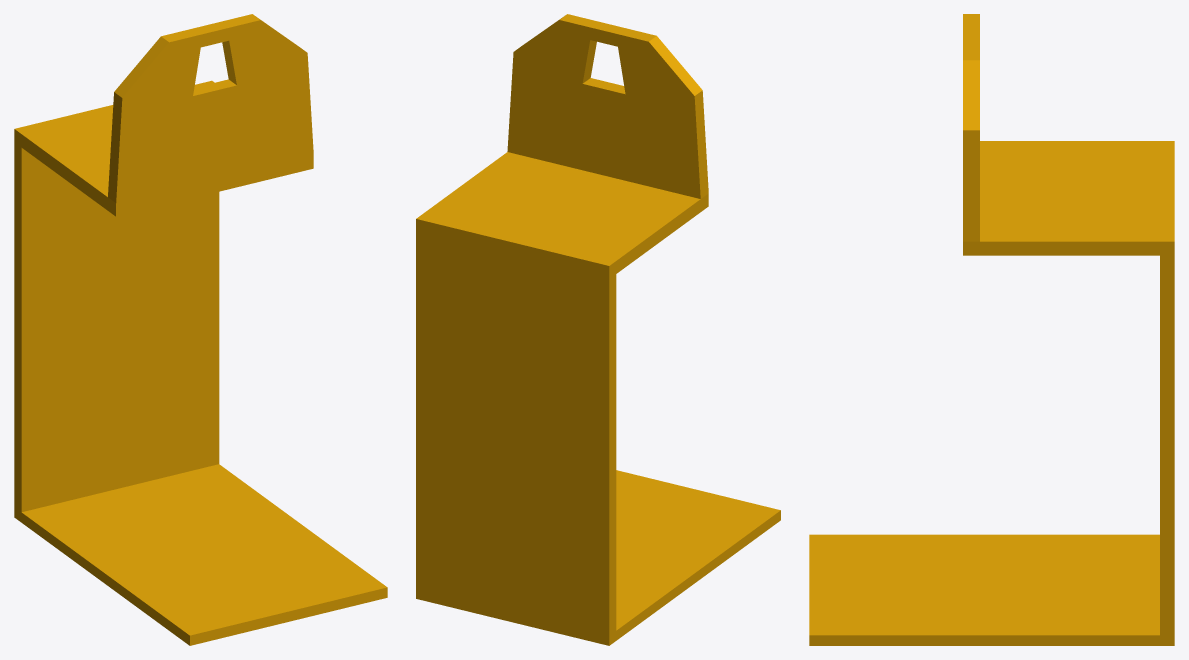
File: Crane_WallHook.fbx
The picture shows the model from 3 angles, left to right: view 1: azimuth 30°, elevation 25°; view 2: azimuth 150°, elevation 25°; view 3: azimuth 270°, elevation 25°; orthographic projection. The views are drawn at different scales.
Visible parts, largest first — view 1: Crane_WallHook; view 2: Crane_WallHook; view 3: Crane_WallHook.
Boxes of the visible parts, x1,y1,x2,y2 form: Crane_WallHook: (14, 14, 387, 645); Crane_WallHook: (416, 14, 780, 645); Crane_WallHook: (809, 14, 1174, 645).
Bounding box in the file's own units: 10.86 × 28.18 × 16.7.
